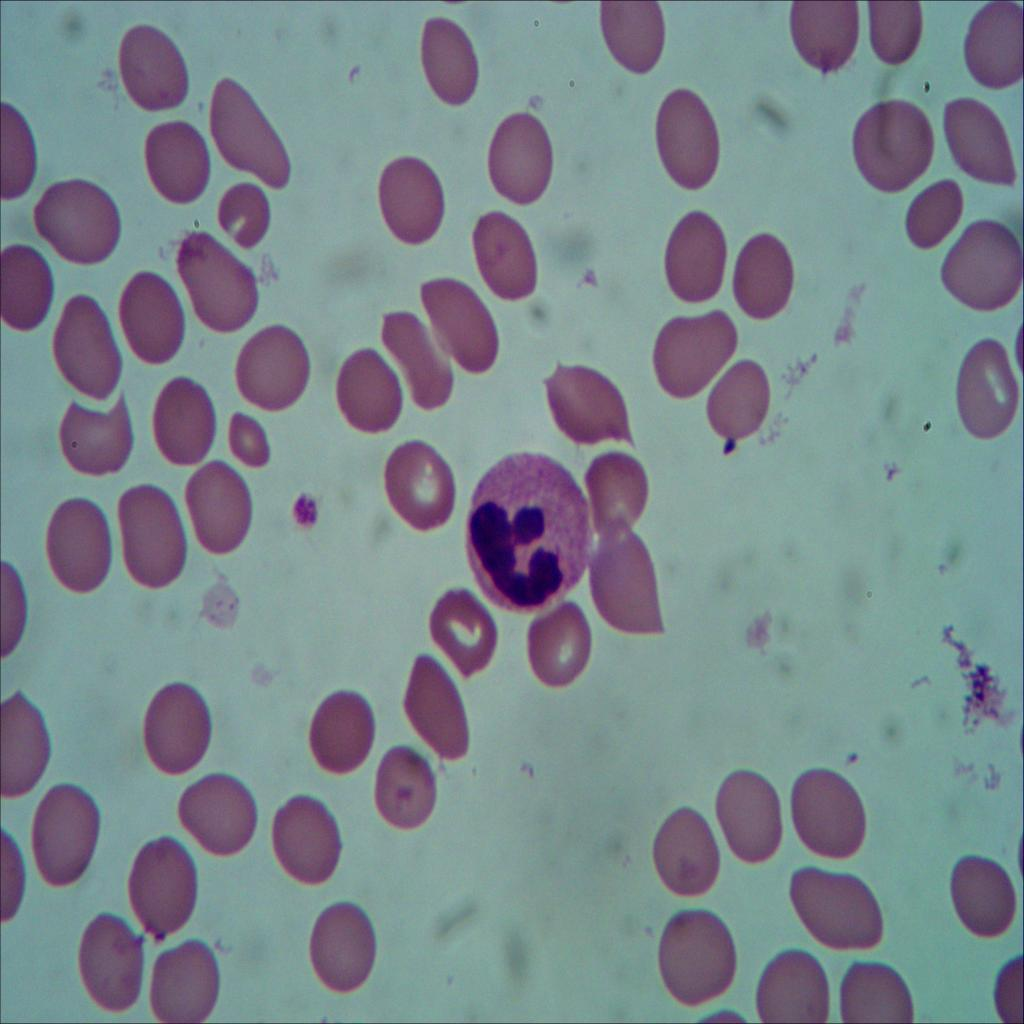Eritrosit: (202, 73, 296, 195), (782, 850, 890, 955), (394, 646, 476, 770), (538, 347, 634, 452), (940, 330, 1024, 449), (590, 520, 669, 646), (420, 580, 502, 694), (650, 301, 740, 403), (652, 904, 740, 1008), (378, 302, 457, 416), (173, 230, 264, 328), (934, 97, 1024, 195), (66, 906, 147, 1014), (121, 836, 205, 940), (644, 802, 732, 900), (849, 97, 939, 192), (420, 274, 504, 374), (651, 81, 723, 193), (28, 782, 104, 888), (44, 485, 114, 598), (47, 295, 126, 395), (180, 462, 256, 562), (135, 682, 215, 777), (32, 181, 122, 265), (710, 770, 787, 868), (791, 766, 870, 861), (116, 487, 188, 591), (233, 312, 309, 410), (265, 793, 341, 891), (368, 740, 441, 840), (184, 768, 260, 864), (372, 156, 449, 249), (480, 110, 556, 204), (145, 937, 227, 1024), (467, 212, 545, 302), (381, 446, 459, 536), (115, 27, 194, 113), (580, 444, 650, 541), (304, 679, 370, 780), (943, 227, 1024, 309), (730, 224, 796, 324), (307, 904, 380, 994), (662, 206, 728, 304), (146, 372, 216, 464), (754, 937, 828, 1024), (593, 0, 666, 87), (417, 14, 484, 108), (525, 598, 592, 691), (115, 274, 190, 357), (59, 393, 133, 476), (837, 953, 919, 1024), (144, 117, 212, 202), (708, 358, 776, 443), (786, 0, 864, 71), (956, 861, 1024, 942), (335, 347, 399, 433), (219, 174, 278, 264), (900, 168, 962, 252), (0, 691, 48, 797), (0, 249, 58, 336), (964, 13, 1024, 90), (864, 0, 924, 76), (223, 408, 271, 477)
Neutrofil: (465, 450, 594, 612)
Platelet: (286, 491, 320, 530), (714, 428, 740, 470), (919, 72, 934, 98)
